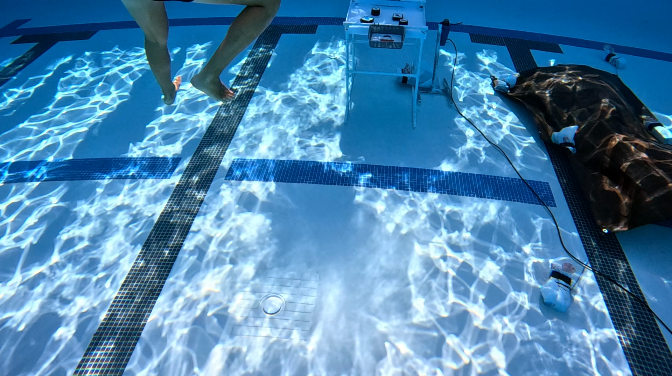sandbag: (488, 63, 671, 236)
